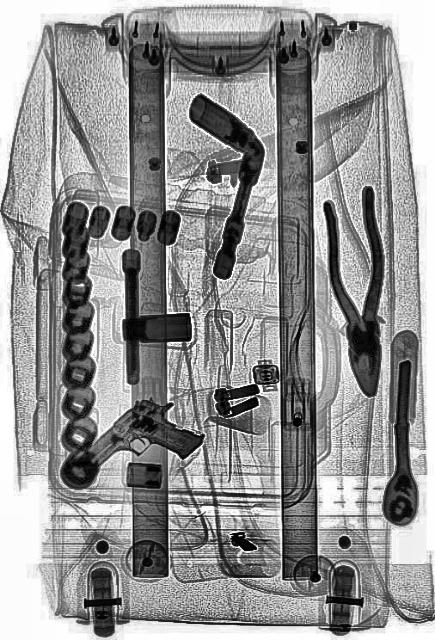Gun: (70, 370, 206, 534)
Pliers: (319, 184, 395, 400)
